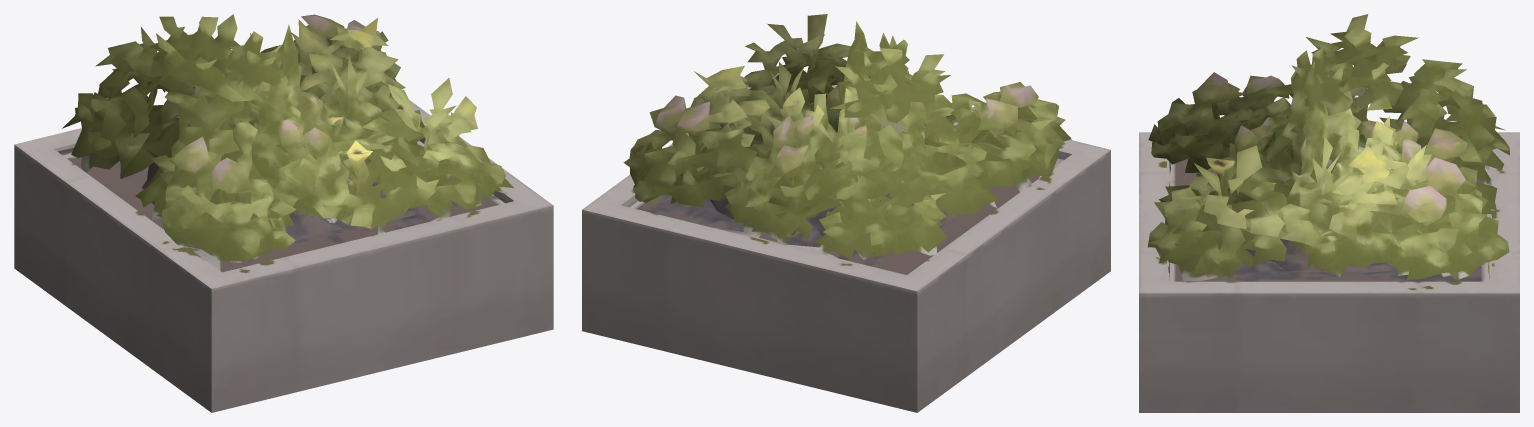
The model's file is planter_square.glb.
3 renders of one model, left to right at view 1: azimuth 30°, elevation 25°; view 2: azimuth 150°, elevation 25°; view 3: azimuth 270°, elevation 25°, orthographic. The views are drawn at different scales.
Parts seen in each view (by area): view 1: body; view 2: body; view 3: body.
Boxes of the visible parts, x1,y1,x2,y2 form: body: [14, 14, 553, 412]; body: [582, 14, 1110, 412]; body: [1139, 14, 1519, 412].
Size of the model in its own units: 1.3 by 1.03 by 1.3.
1 material, 1 textured.
